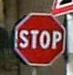stop: (12, 11, 65, 66)
